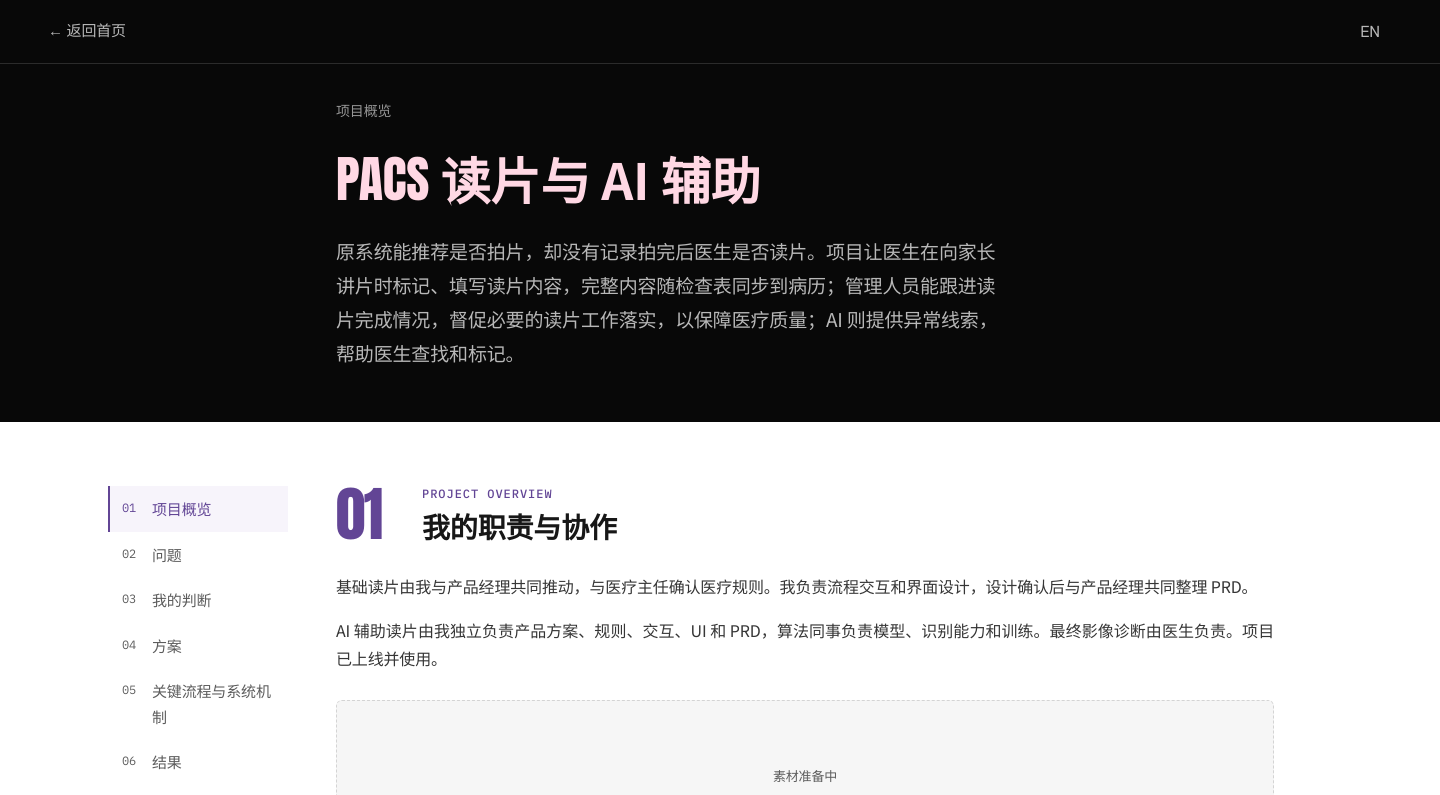
Test: pacs switches all seven sections and evidence captions to English
Click the button with aria-label "Switch to English". click: [1370, 32]
box: [1348, 10, 1392, 54]
(page scrolled)
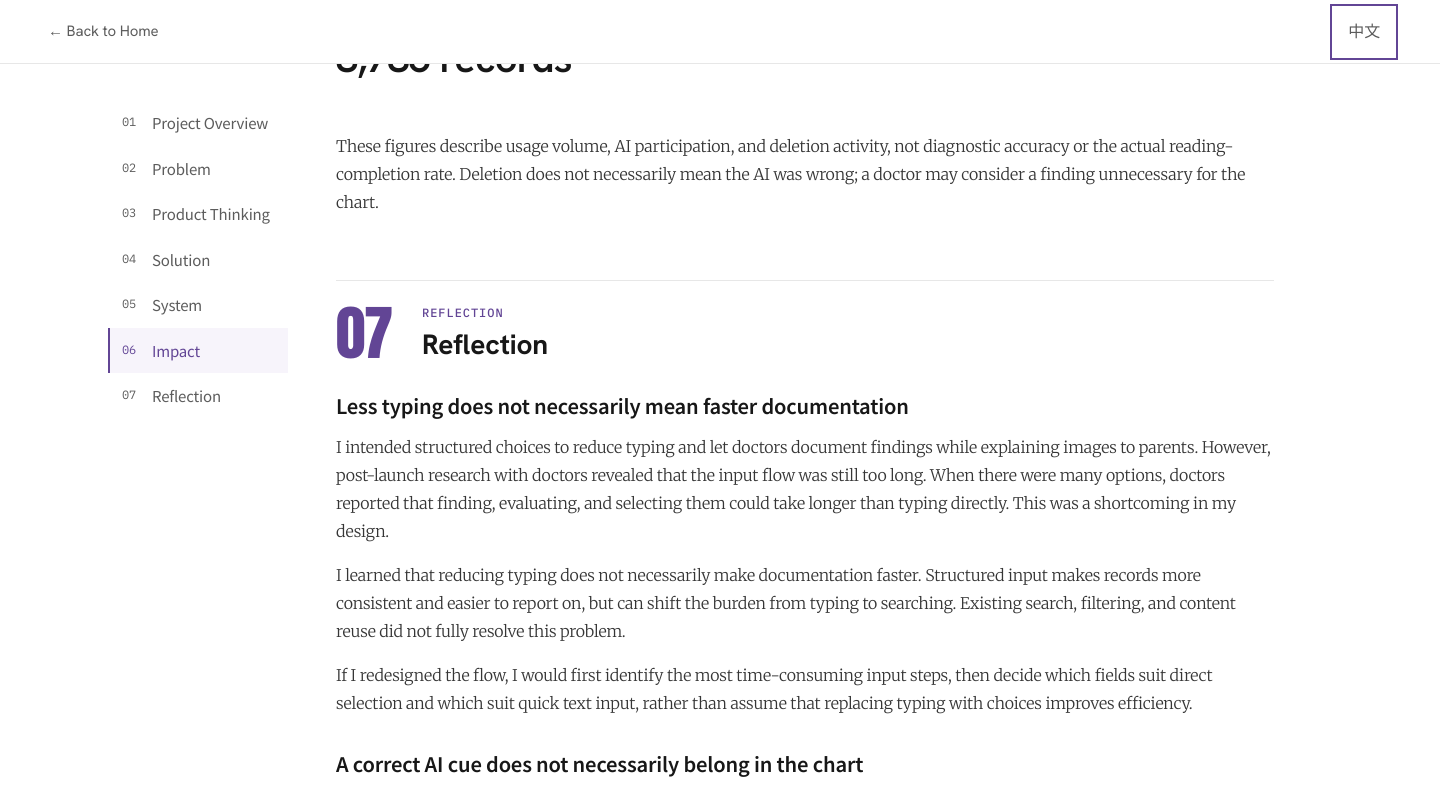
Now the heading "Less typing does not necessarily mean faster documentation" is shown, box [336, 391, 909, 420]
